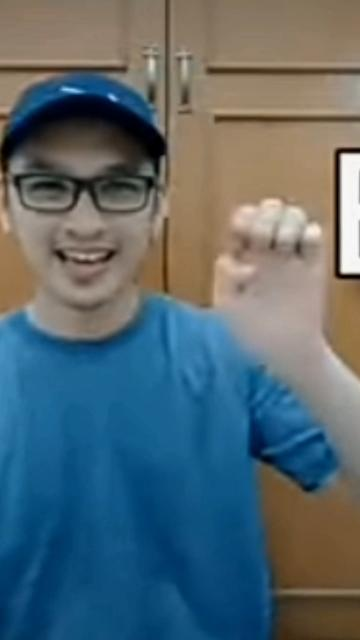E: (203, 194, 327, 362)
